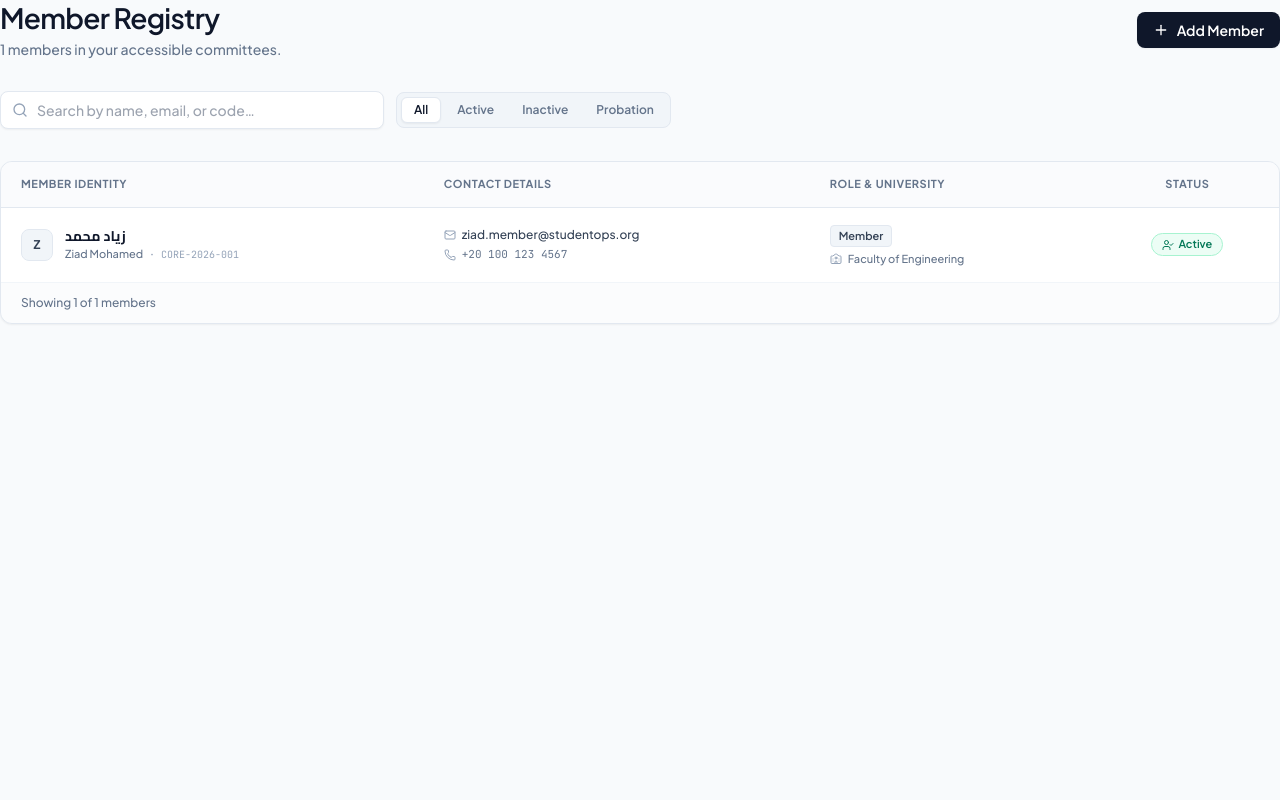
Test: StudentsPage & Add Member Modal › submits new student and updates the list
expect the heading "Member Registry" is shown: met, box [0,0,219,35]
// Open modal
Click the button "Add Member". click: (1208, 30)
box: [1137,12,1279,48]
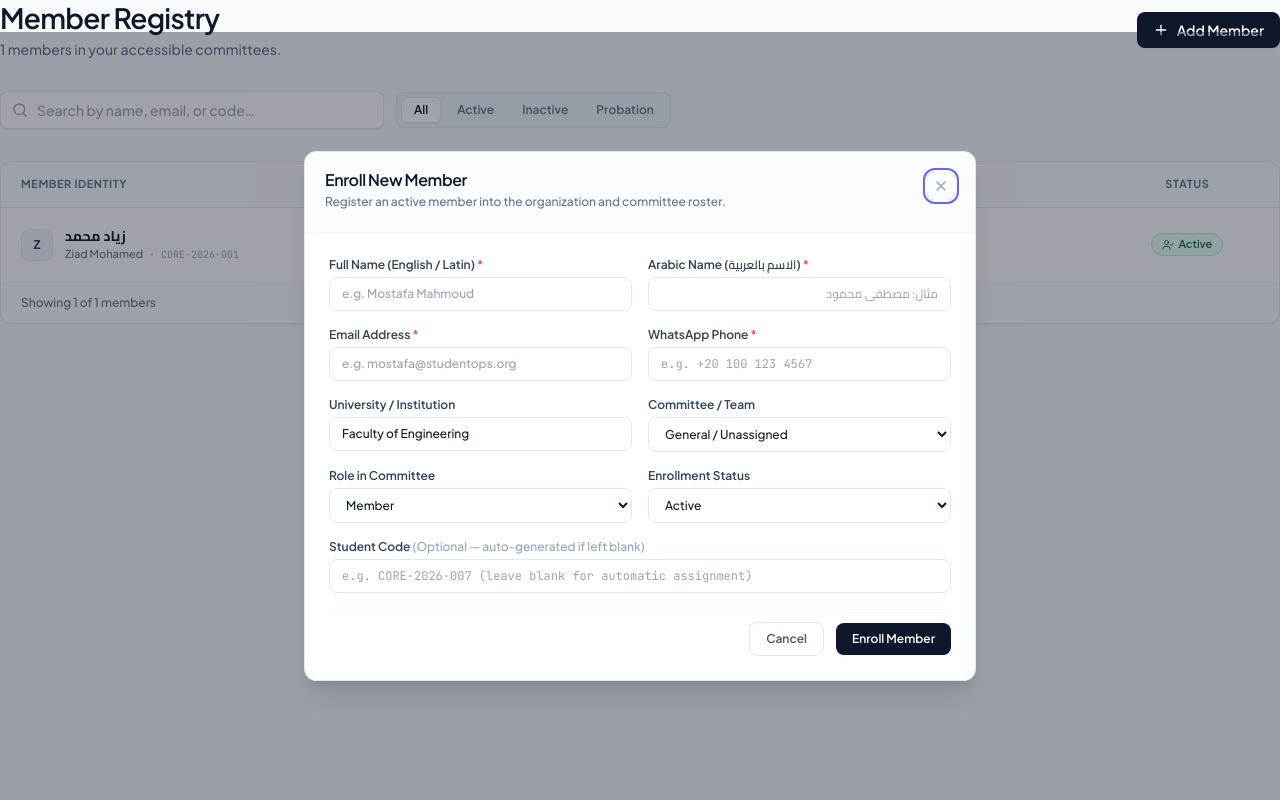
// Fill inputs
Type "Mostafa Mahmoud" into the field with placeholder "e.g. Mostafa Mahmoud". click: (480, 294)
box: [329,277,632,311]
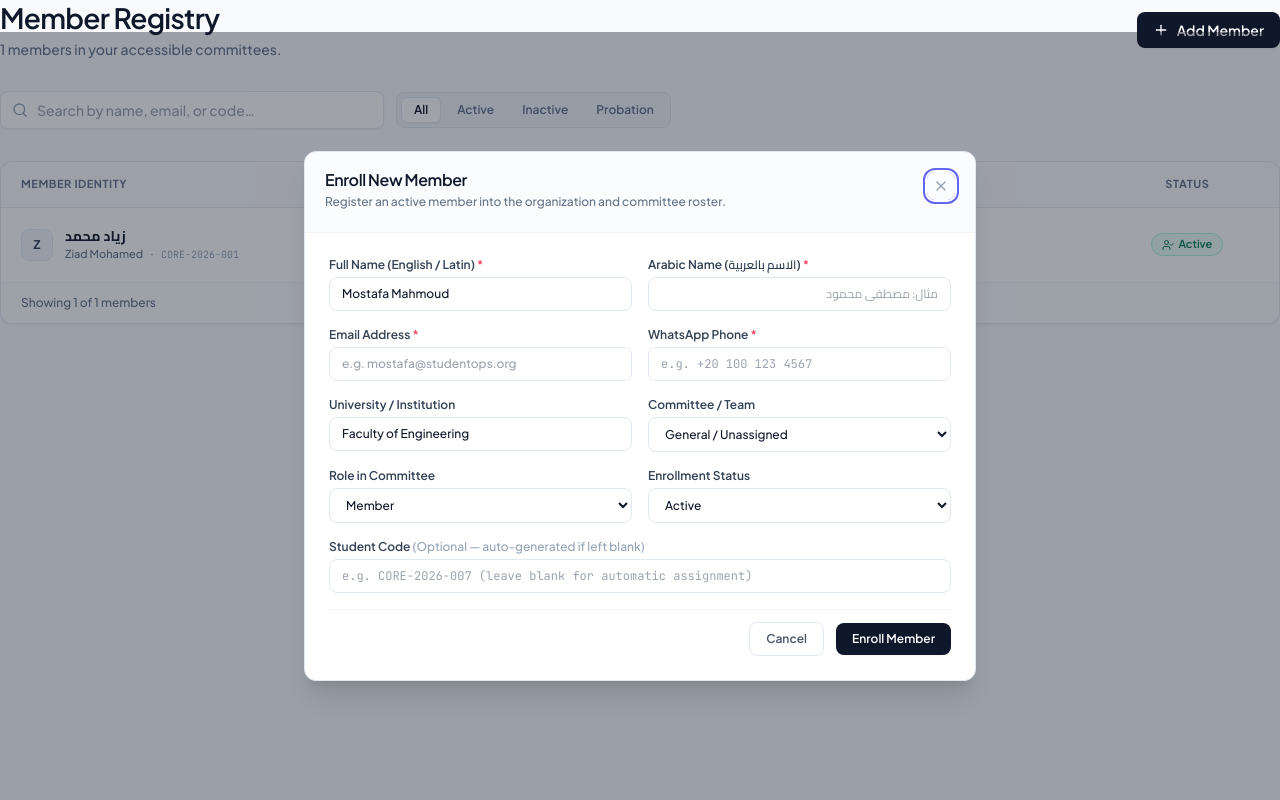
Type "مصطفى محمود" into the field with placeholder "مثال: مصطفى محمود". click: (800, 294)
box: [648,277,951,311]
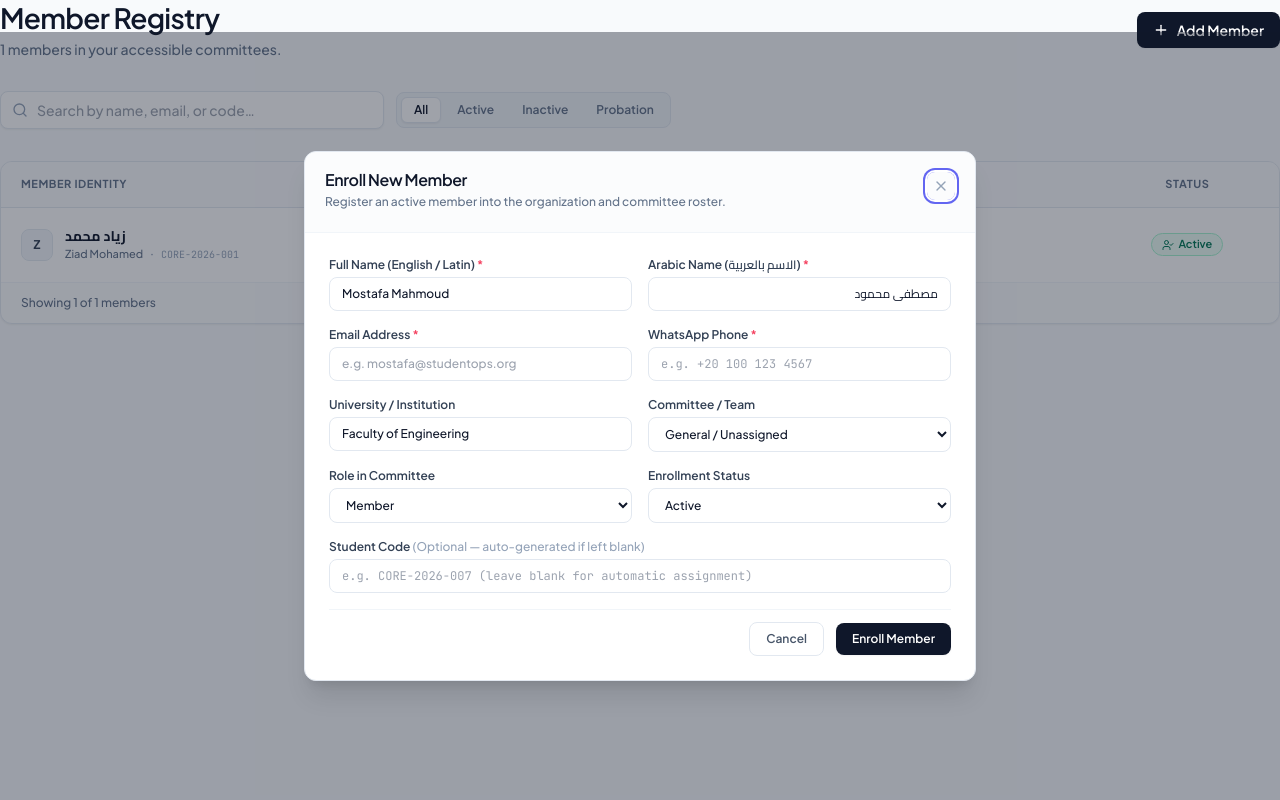
Type "mostafa@studentops.org" into the field with placeholder "e.g. mostafa@studentops.org". click: (480, 364)
box: [329,347,632,381]
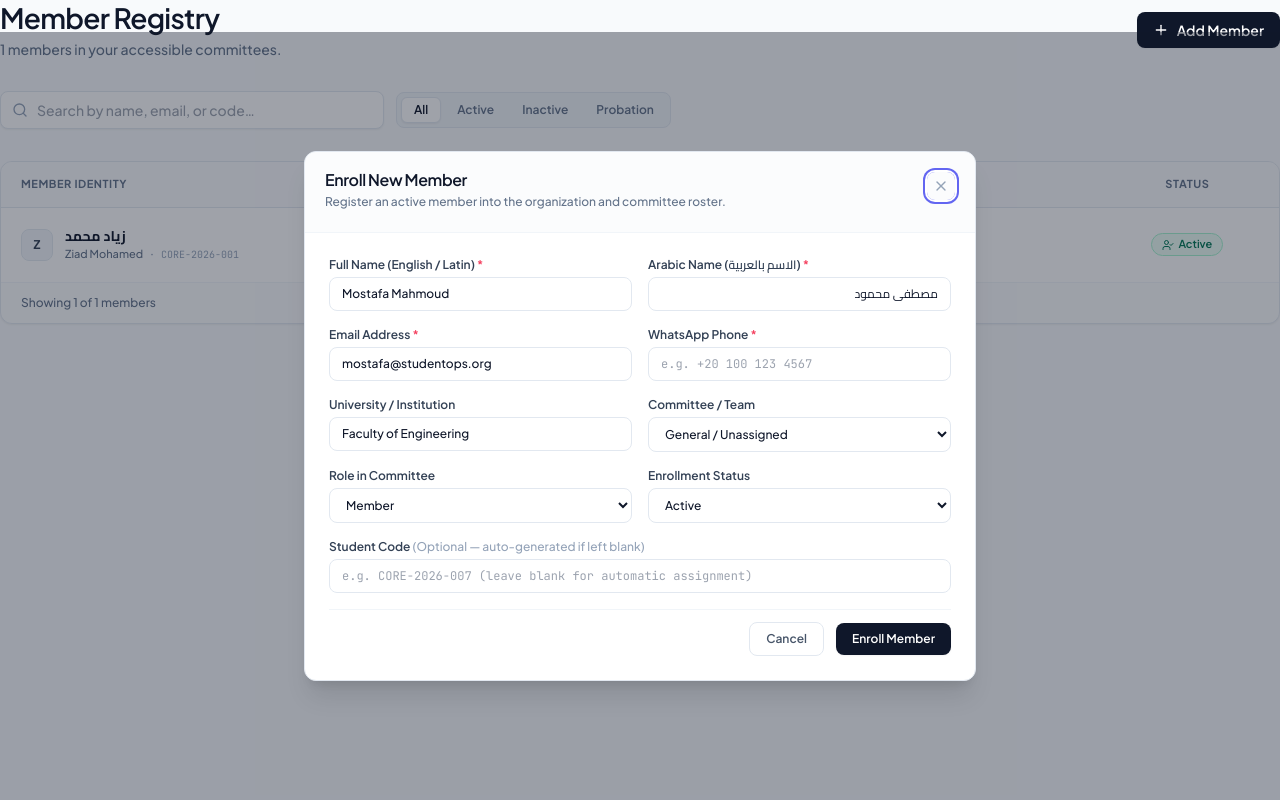
Type "+20 111 222 3333" into the field with placeholder "e.g. +20 100 123 4567". click: (800, 364)
box: [648,347,951,381]
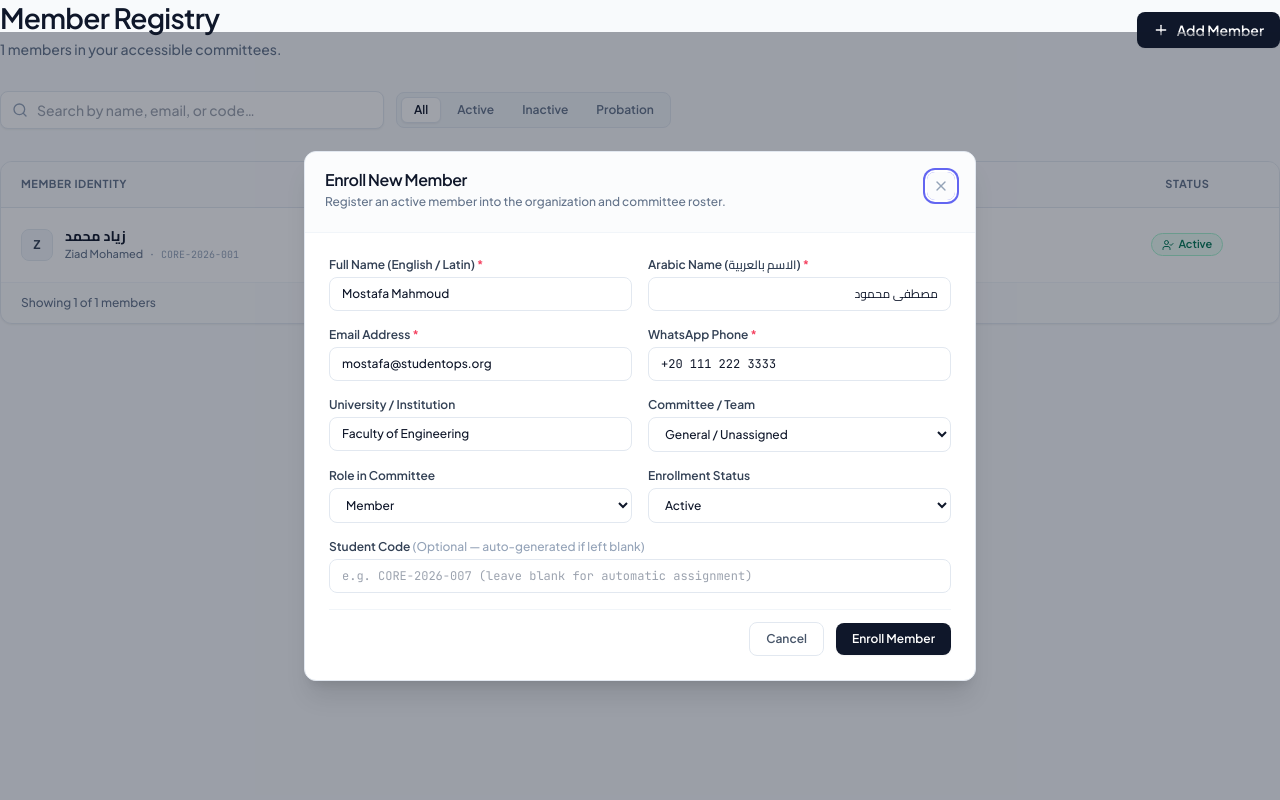
// Click submit
Click the button "Enroll Member". click: (894, 639)
box: [836,623,951,655]
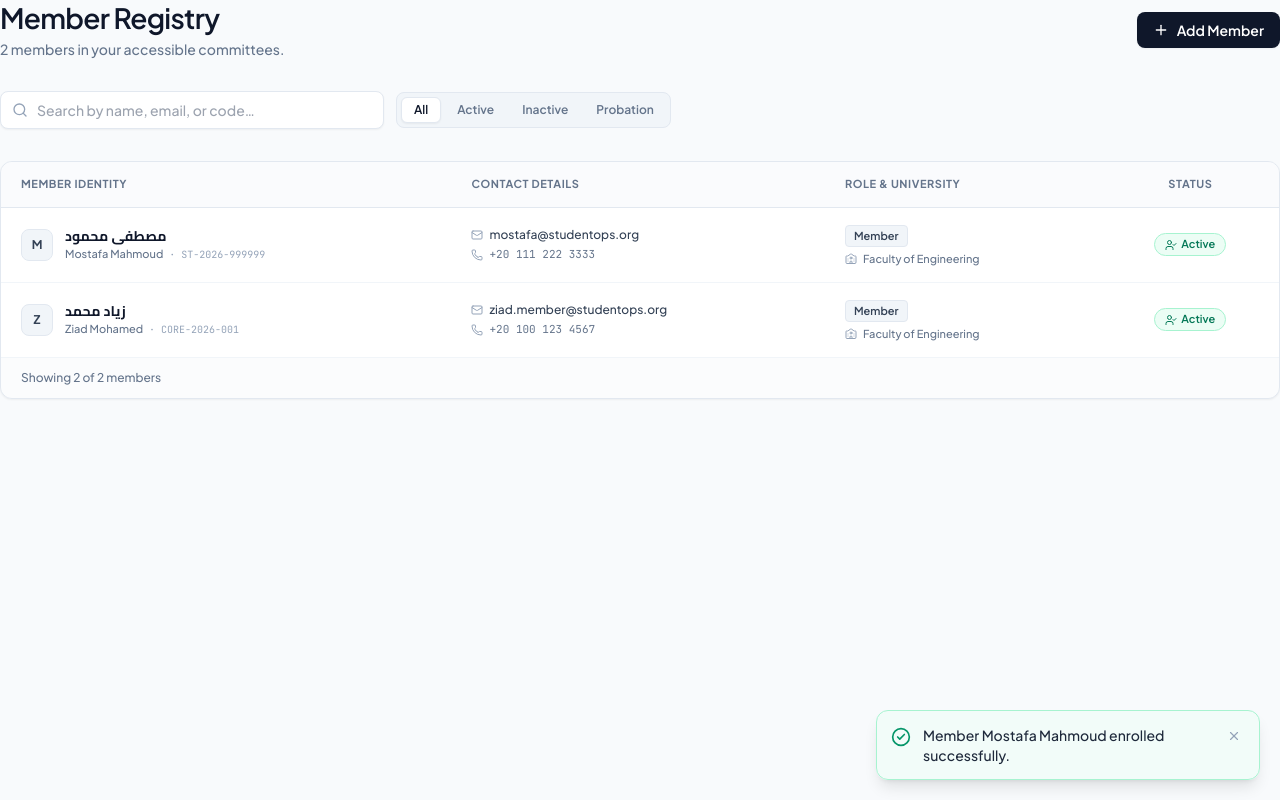
expect the text "مصطفى محمود" is shown: met, box [65,223,167,249]
